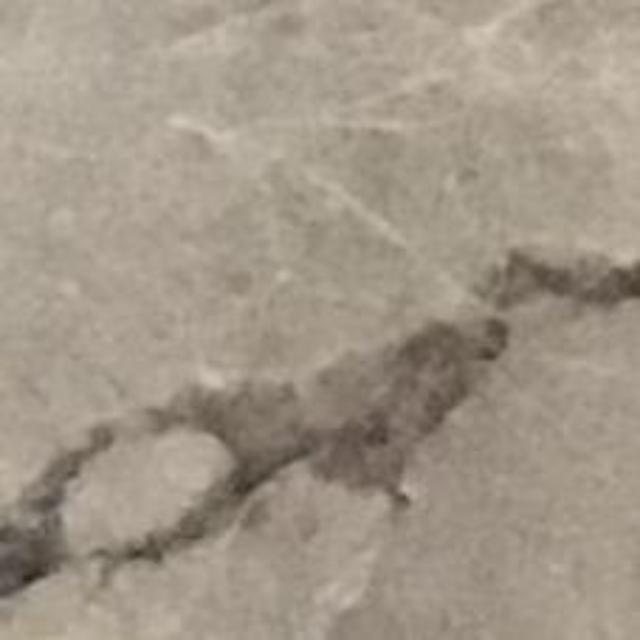crack: (96, 251, 639, 563)
